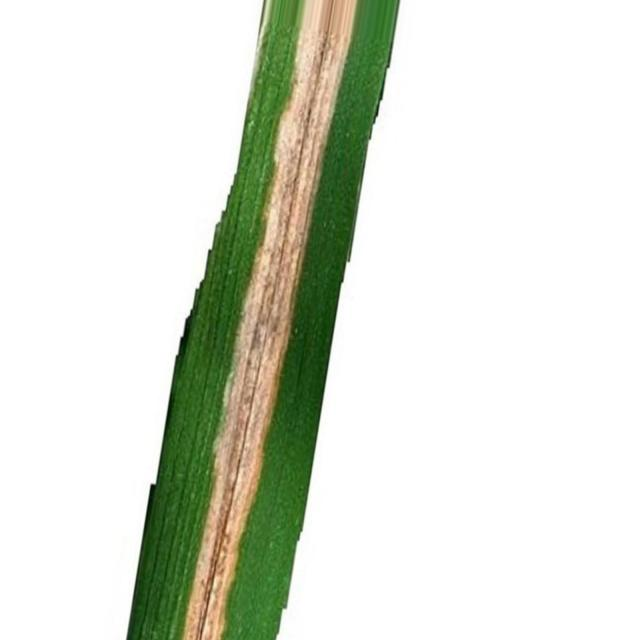Bacterial_Leaf_Blight: (181, 0, 358, 639)
